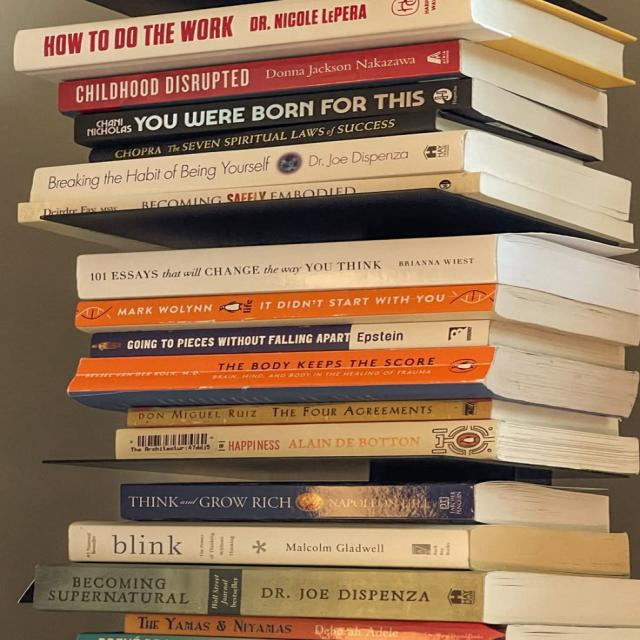book: (32, 561, 602, 620), (74, 519, 618, 571), (88, 318, 491, 359), (122, 481, 492, 524), (19, 0, 424, 32)
